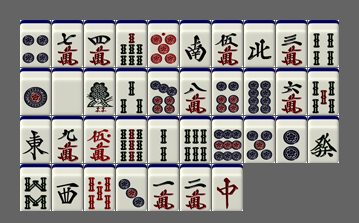0m: (84, 116, 115, 163)
0p: (148, 20, 179, 67)
0s: (84, 164, 115, 211)
1m: (148, 164, 179, 211)
1p: (20, 68, 51, 115)
1s: (84, 68, 115, 115)
1z: (20, 116, 51, 163)
2m: (180, 164, 211, 211)
2p: (276, 116, 307, 163)
2s: (148, 116, 179, 163)
2z: (180, 20, 211, 67)
3m: (276, 20, 307, 67)
3p: (116, 164, 147, 211)
3s: (116, 68, 147, 115)
3z: (52, 164, 83, 211)
4m: (84, 20, 115, 67)
4p: (20, 20, 51, 67)
4s: (308, 20, 339, 67)
4z: (244, 20, 275, 67)
5m: (212, 20, 243, 67)
5p: (244, 116, 275, 163)
5s: (308, 68, 339, 115)
5z: (52, 68, 83, 115)
6m: (276, 68, 307, 115)
6p: (212, 68, 243, 115)
6s: (180, 116, 211, 163)
6z: (308, 116, 339, 163)
7m: (52, 20, 83, 67)
7p: (148, 68, 179, 115)
7s: (116, 20, 147, 67)
7z: (212, 164, 243, 211)
8m: (180, 68, 211, 115)
8p: (244, 68, 275, 115)
8s: (20, 164, 51, 211)
9m: (52, 116, 83, 163)
9p: (212, 116, 243, 163)
9s: (116, 116, 147, 163)
